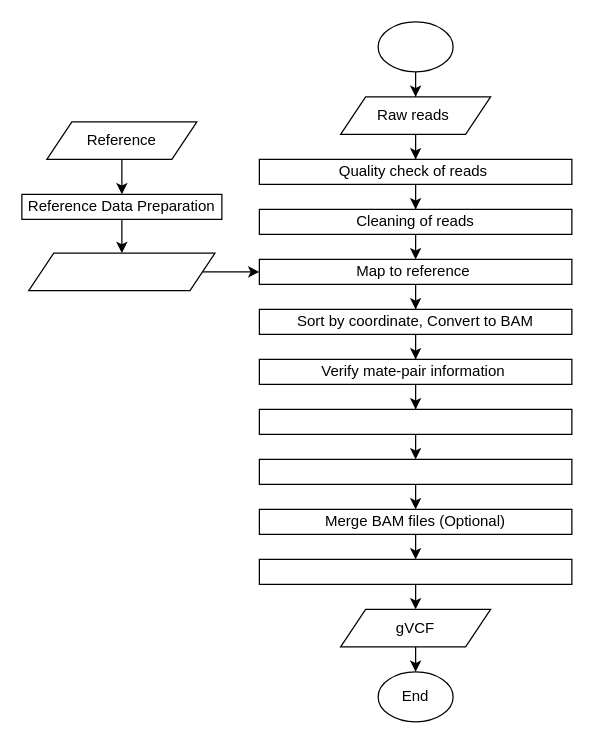
Image size: 594x744. Some labels were removed from this diagram. The shapes that lost their labels are listed below. From the top down, each one's centre as x and y in pixels, then its label:
the point at 415,46: Start
the point at 121,271: Reference + index
the point at 415,421: Add read group information
the point at 415,471: Mark Duplicates
the point at 415,571: Variant Calling
